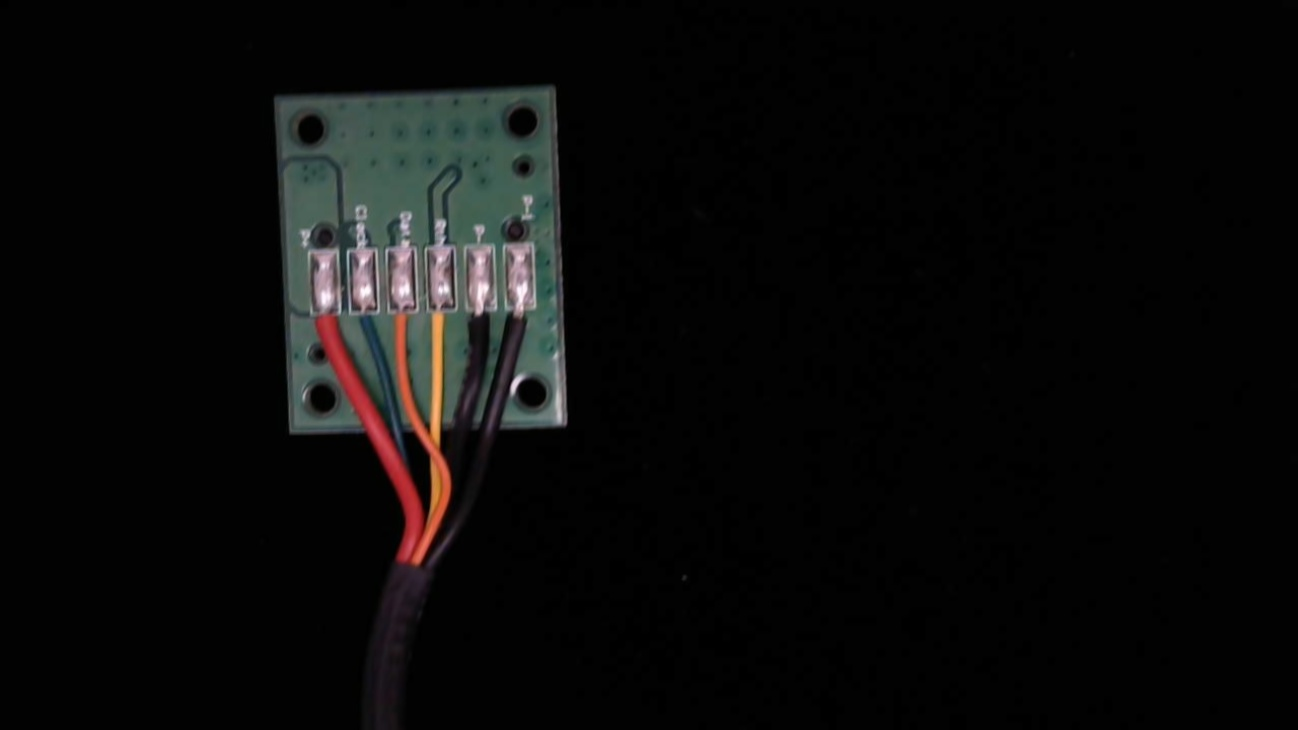Black: (461, 293, 496, 367)
Black1: (504, 294, 537, 362)
Green: (347, 296, 381, 367)
Orange: (384, 295, 417, 368)
Red: (309, 296, 344, 367)
Yellow: (423, 295, 457, 370)
